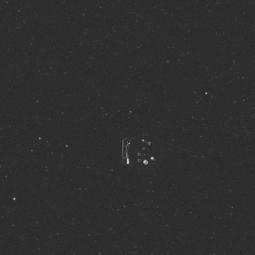proba_3_ocs: (98, 125, 170, 176)
